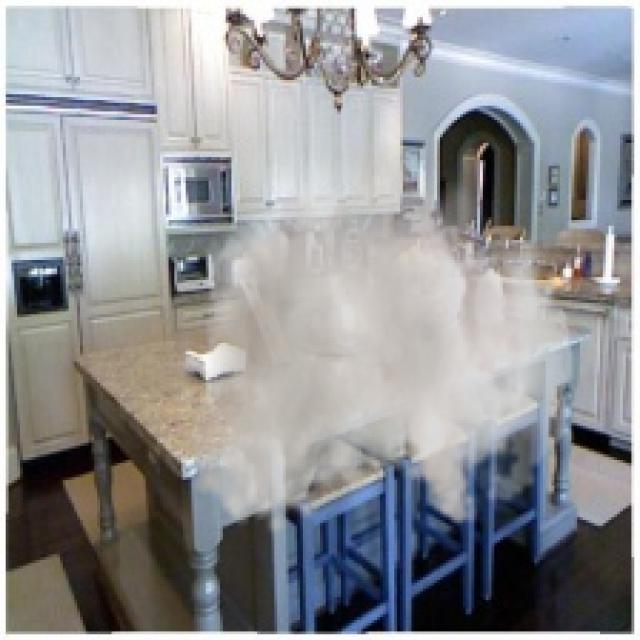Smoke: (188, 125, 574, 538)
